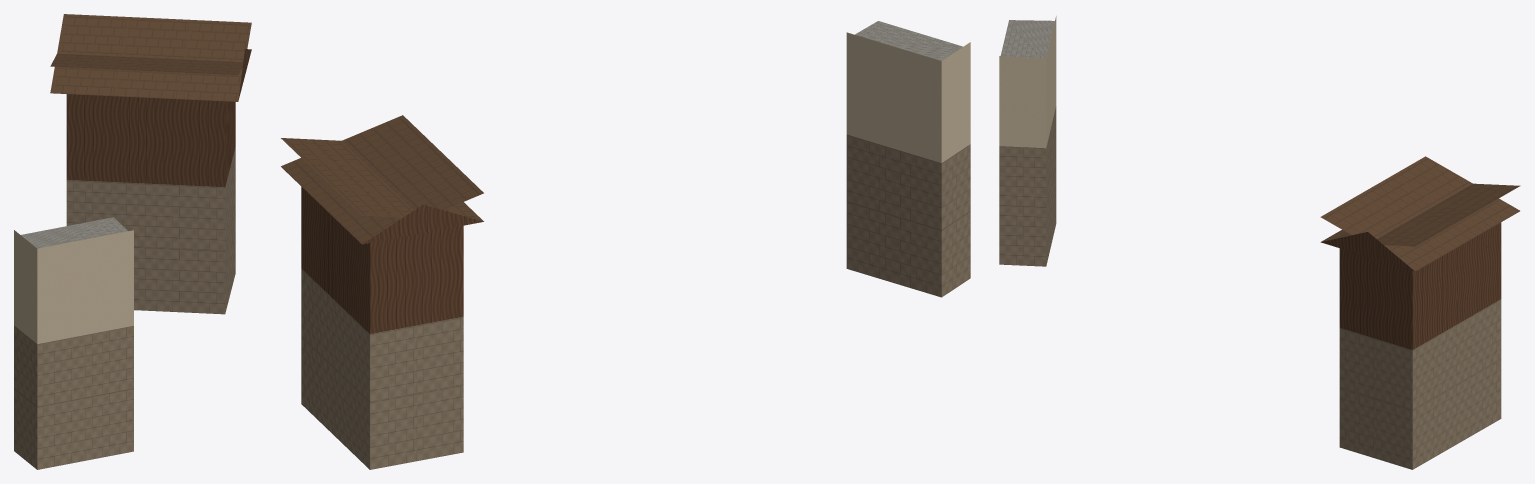
The model's file is bld_c12_19_428.gltf.
3 renders of one model, left to right at view 1: azimuth 30°, elevation 25°; view 2: azimuth 150°, elevation 25°; view 3: azimuth 270°, elevation 25°, orthographic. The views are drawn at different scales.
Visible parts, largest first — view 1: bld_c12_19_428; view 2: bld_c12_19_428; view 3: bld_c12_19_428.
Part boxes in pixels (bbox=[...]): bld_c12_19_428: bbox=[14, 14, 251, 469]; bld_c12_19_428: bbox=[281, 21, 970, 469]; bld_c12_19_428: bbox=[999, 16, 1520, 469].
Size of the model in its own units: 16.84 by 10.58 by 18.77.
Materials: 7 (7 with a texture image).
